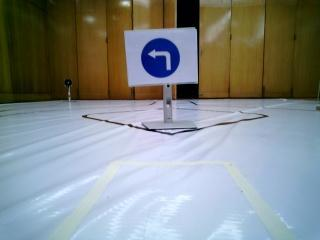left: (123, 32, 198, 86)
